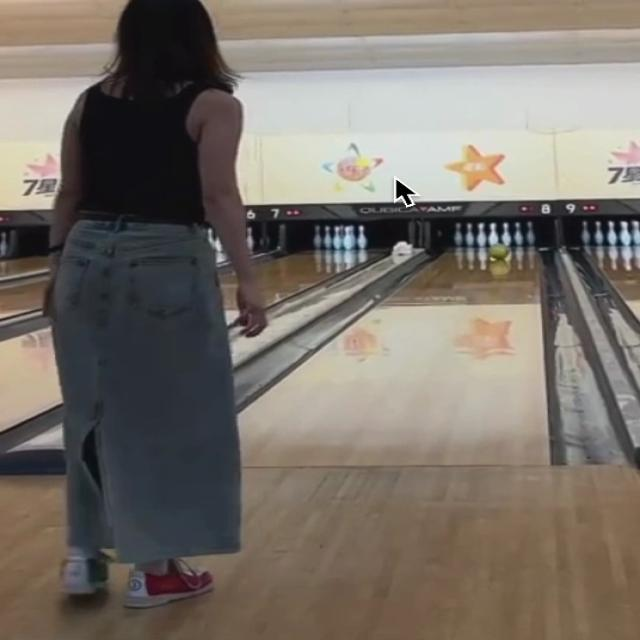alley: (241, 245, 548, 467)
balls: (490, 242, 509, 260)
bottle: (455, 221, 534, 249)
